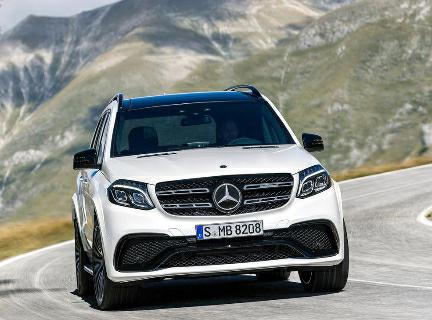奔驰-GLSAMG: (69, 82, 354, 310)
